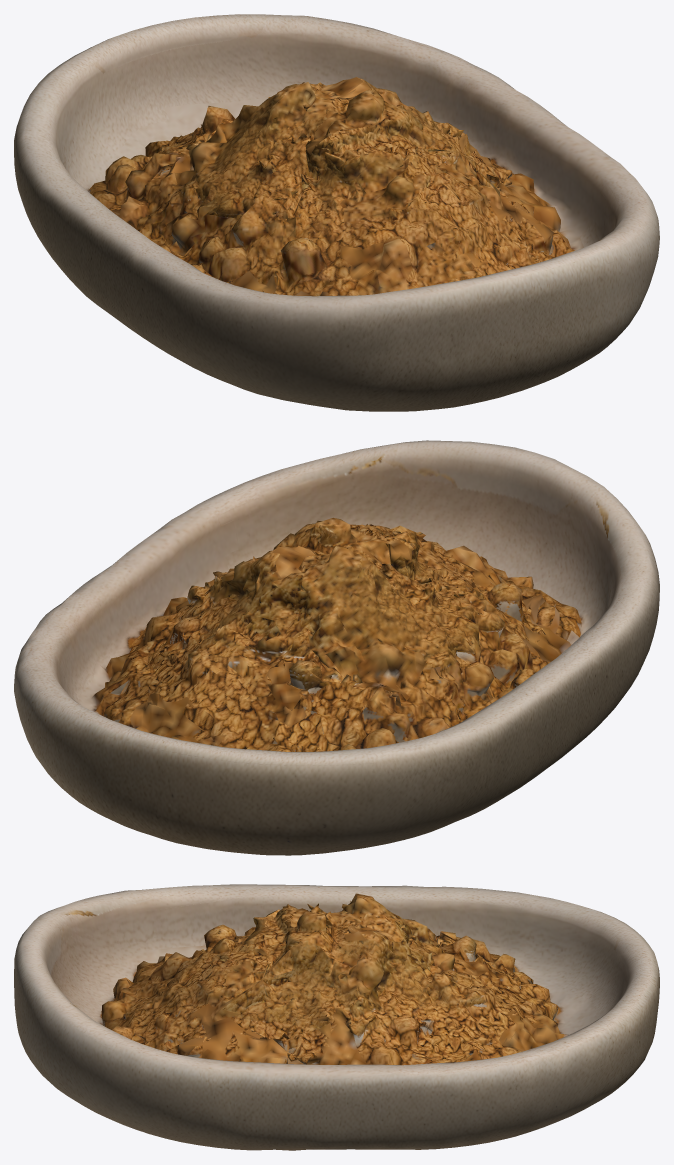
File: Prop_PowderDish_Gold.fbx
3 renders of one model, top to bottom at view 1: azimuth 30°, elevation 25°; view 2: azimuth 150°, elevation 25°; view 3: azimuth 270°, elevation 25°, orthographic. The views are drawn at different scales.
Parts seen in each view (by area): view 1: texture_mapping; view 2: texture_mapping; view 3: texture_mapping.
Boxes of the visible parts, <box> form: texture_mapping: <box>14,14,659,411</box>; texture_mapping: <box>14,440,659,855</box>; texture_mapping: <box>14,884,659,1150</box>.
Bounding box in the file's own units: 0.709 × 0.9994 × 0.3085.
Materials: 1 (1 with a texture image).
